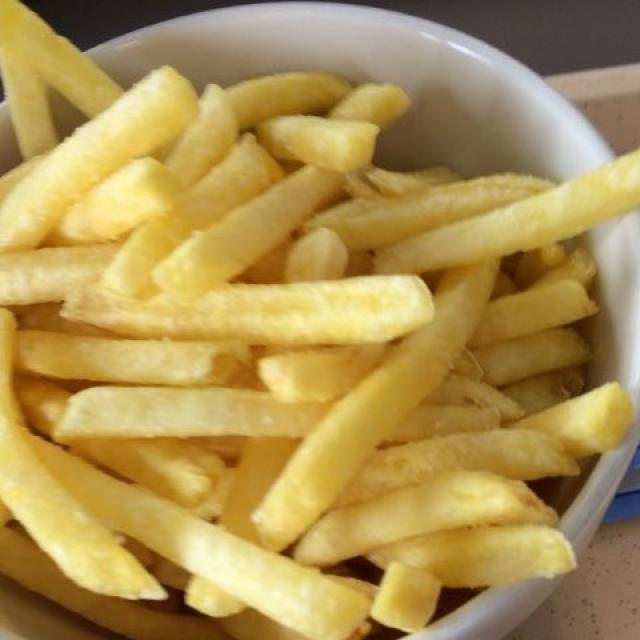chips-french-fries: (3, 13, 634, 637)
